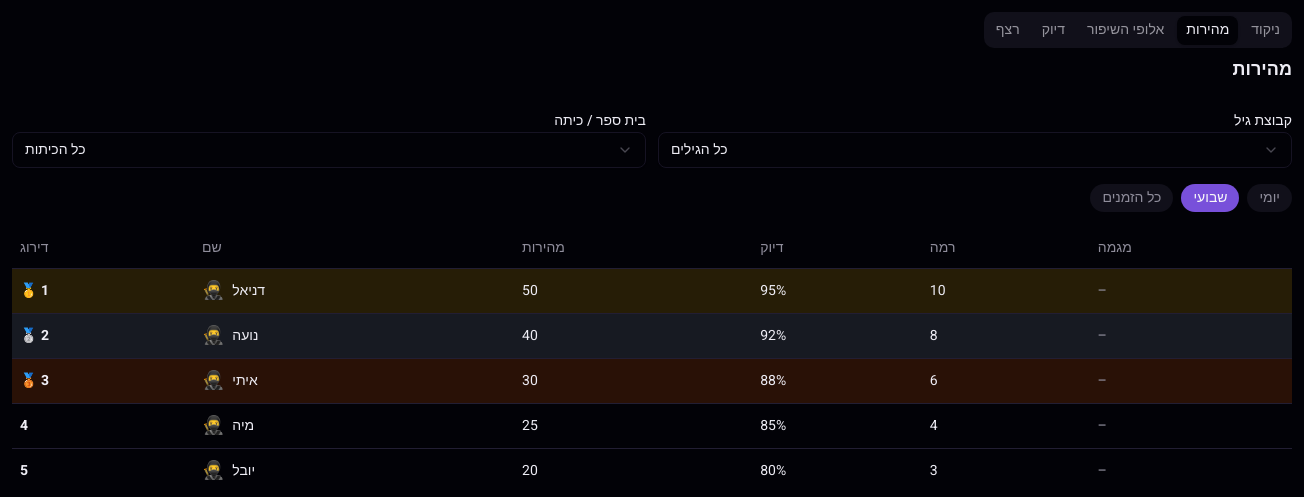
LeaderboardTable › switches category when tab is clicked
Expected: the text with test id "leaderboard-title" reads "מהירות", x1=1233 y1=56 x2=1292 y2=83
// Click accuracy tab
Click the tab with test id "category-accuracy": click(1053, 30) x1=1033 y1=16 x2=1074 y2=44
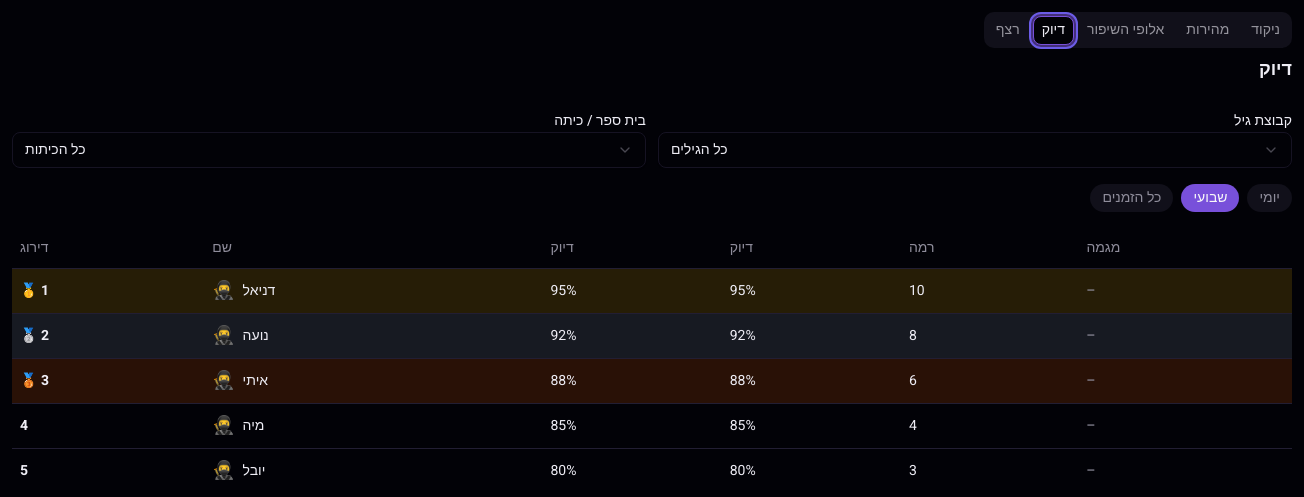
Result: the text with test id "leaderboard-title" reads "דיוק" at x1=1259 y1=56 x2=1292 y2=83
